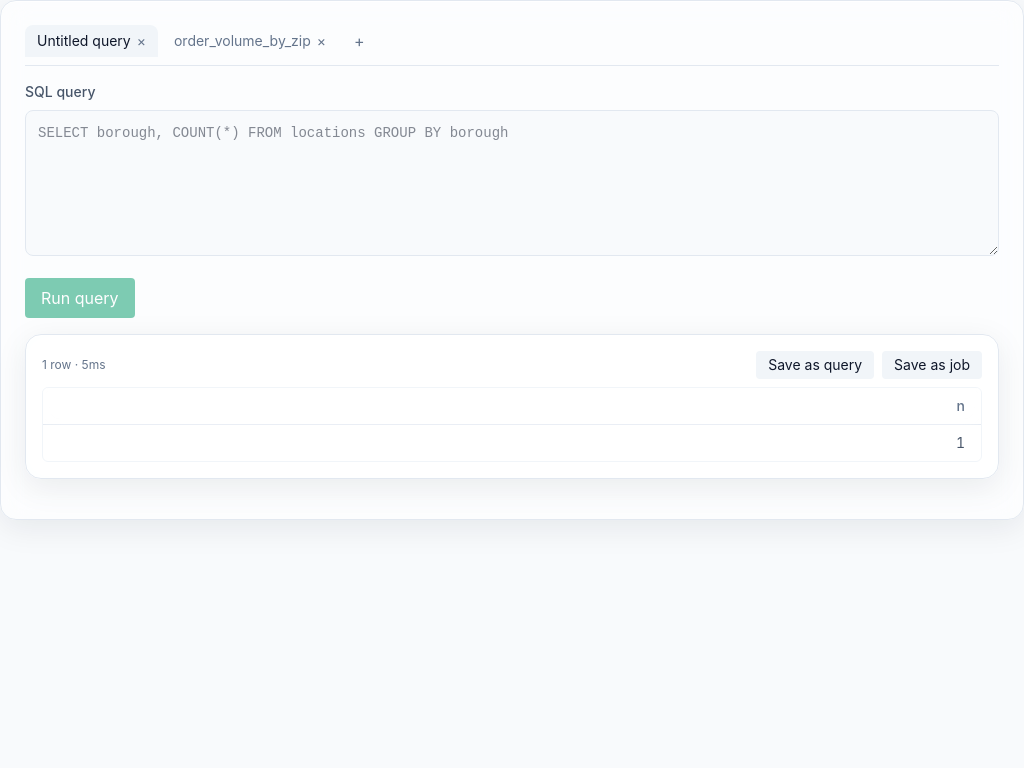
Test case: QueryWorkspace › cancelling the Save as job form dismisses it without creating anything
The width and height of the screenshot is (1024, 768).
Click the button "Save as job": x=932, y=365 x1=882 y1=351 x2=982 y2=379
(page scrolled)
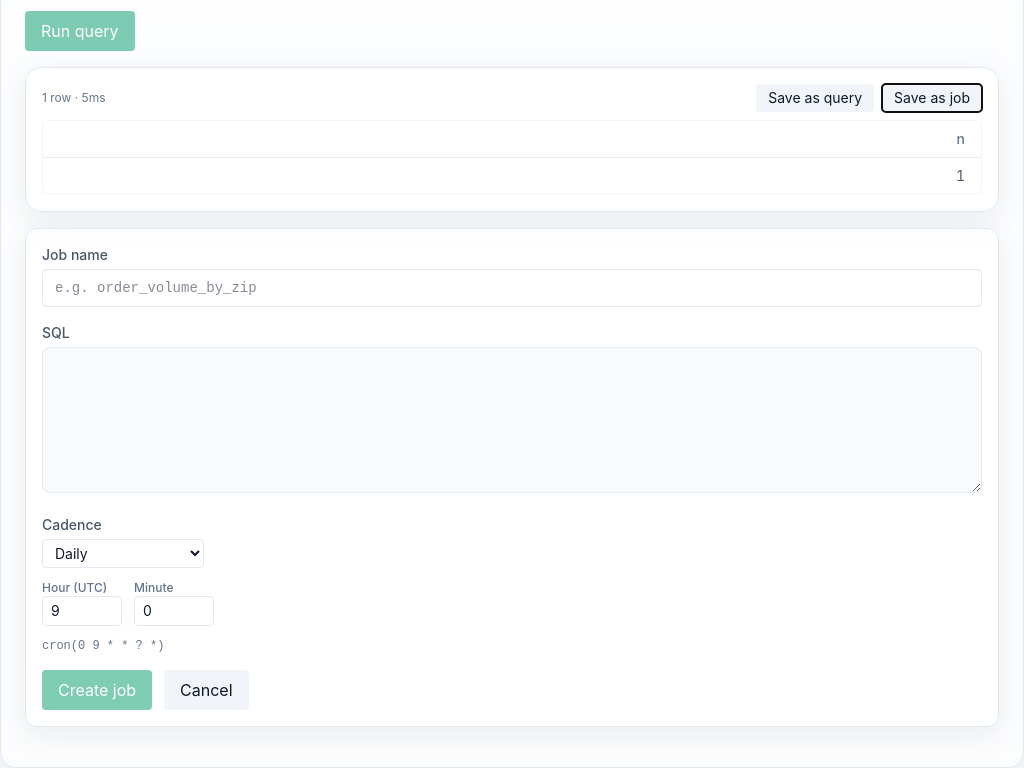
Click the button "Cancel": x=206, y=690 x1=164 y1=670 x2=249 y2=710
(page scrolled)
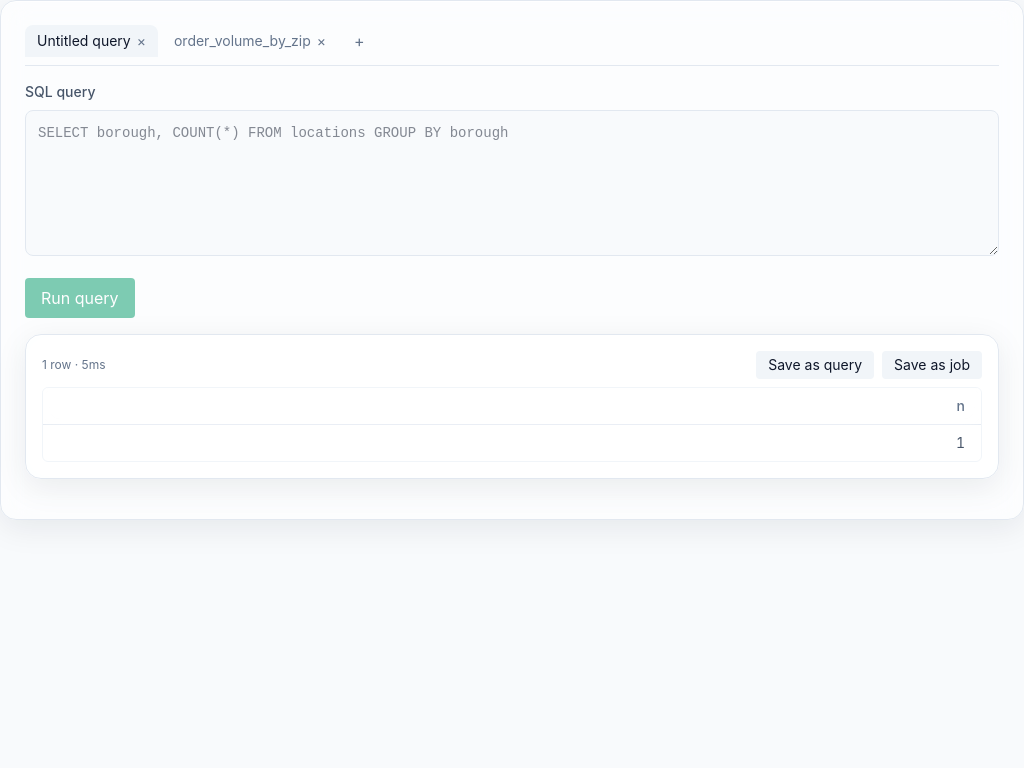
expect the label labelled "Job name" is gone: met
